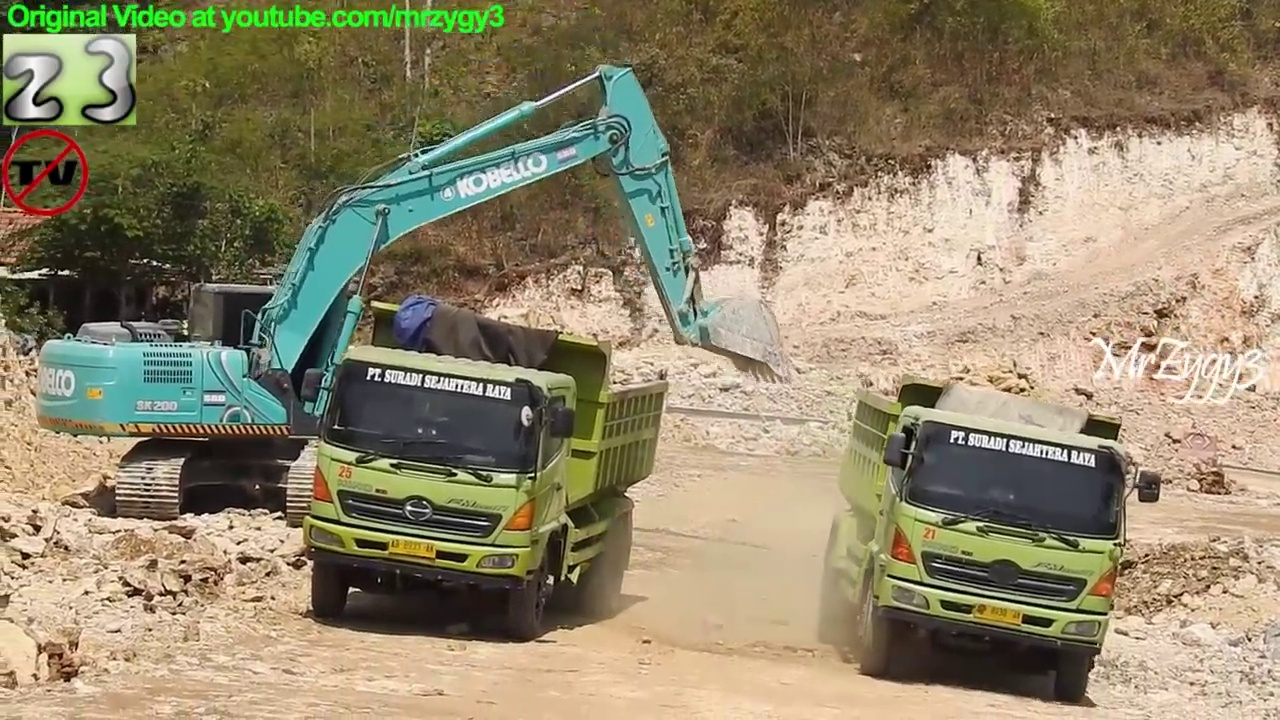excavator: (30, 58, 799, 537)
truck: (299, 289, 674, 648), (813, 369, 1167, 709)
